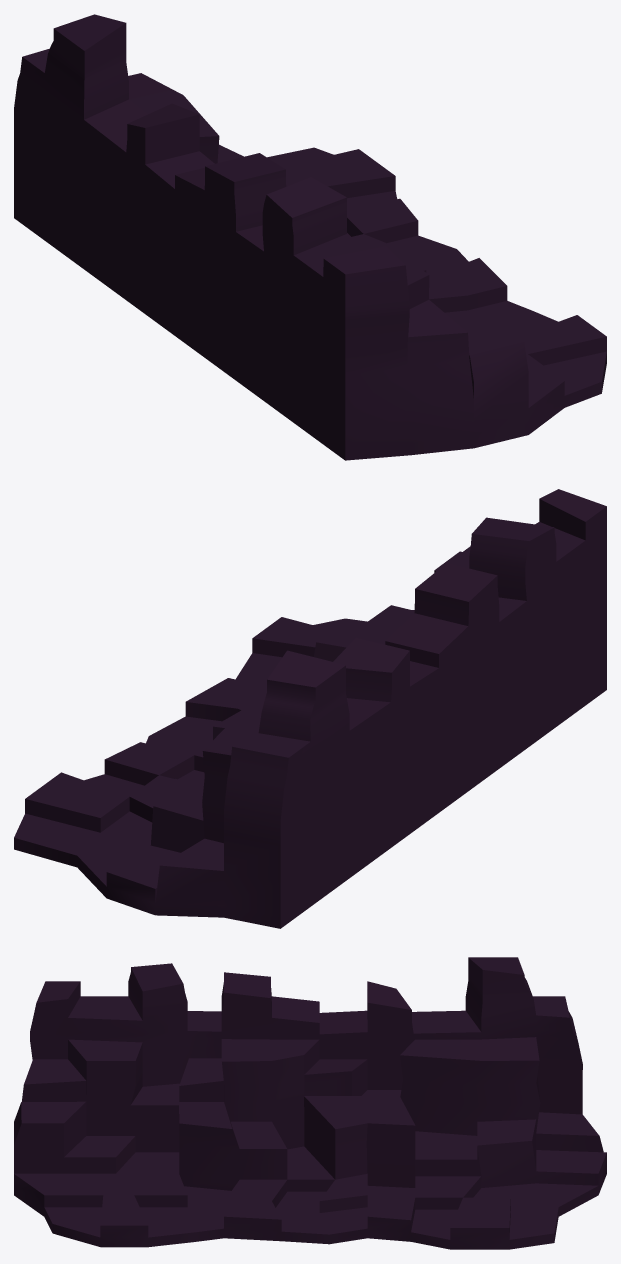
File: C.chao.fbx
3 views of the same model, one above another, from view 1: azimuth 30°, elevation 25°; view 2: azimuth 150°, elevation 25°; view 3: azimuth 270°, elevation 25° (orthographic). The views are drawn at different scales.
Parts seen in each view (by area): view 1: pCube2; view 2: pCube2; view 3: pCube2.
Boxes of the visible parts, bbox=[...] form: pCube2: bbox=[14, 14, 606, 460]; pCube2: bbox=[14, 489, 606, 928]; pCube2: bbox=[14, 957, 606, 1249].
Size of the model in its own units: 4.6 by 3.29 by 9.72.
